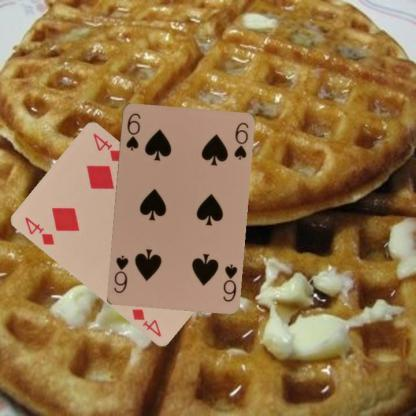4d: (22, 214, 56, 247)
6s: (220, 261, 238, 303), (124, 110, 141, 152)
